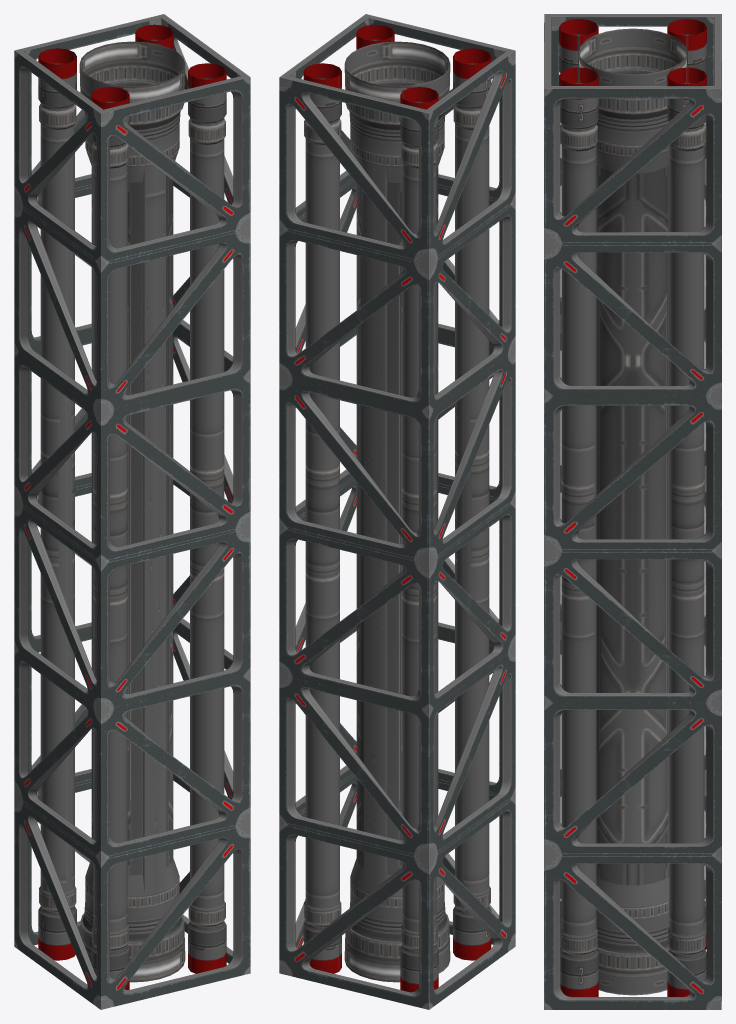
File: quaternius-scifi-column-pipes.glb
3 views of the same model, side by side, from view 1: azimuth 30°, elevation 25°; view 2: azimuth 150°, elevation 25°; view 3: azimuth 270°, elevation 25° (orthographic). The views are drawn at different scales.
Visible parts, largest first — view 1: Column_Pipes; view 2: Column_Pipes; view 3: Column_Pipes.
Part boxes in pixels (<box>): Column_Pipes: <box>14,14,250,1009</box>; Column_Pipes: <box>279,14,515,1009</box>; Column_Pipes: <box>544,14,721,1009</box>.
Size of the model in its own units: 0.8747 by 5 by 0.8747.
Materials: 3 (3 with a texture image).
